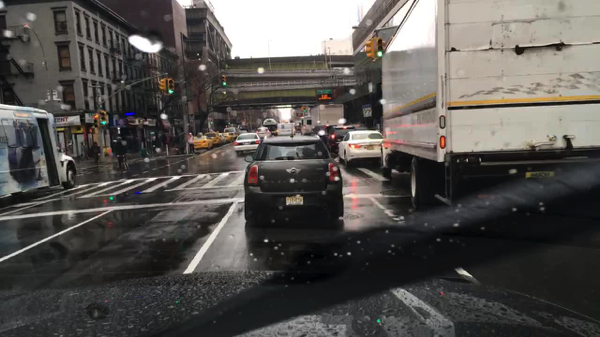bike: (114, 153, 134, 173)
bus: (0, 103, 79, 203)
car: (242, 124, 345, 220), (336, 130, 387, 169), (326, 126, 356, 151), (233, 133, 261, 156), (312, 123, 339, 141), (191, 132, 212, 150), (205, 132, 223, 146), (256, 127, 272, 138), (223, 128, 239, 136), (221, 132, 235, 141), (352, 124, 369, 131), (237, 125, 250, 134), (301, 127, 312, 135)
person: (90, 141, 101, 165), (177, 133, 186, 157), (80, 141, 89, 161), (151, 135, 160, 154), (171, 134, 177, 150), (163, 135, 169, 146)
rider: (110, 137, 130, 169)
traffic light: (362, 41, 374, 59), (374, 39, 383, 58), (167, 79, 176, 95), (99, 112, 107, 126), (158, 78, 165, 92), (220, 75, 228, 87), (93, 114, 98, 128), (381, 40, 387, 51), (301, 107, 306, 113), (88, 130, 94, 134)
traffic sign: (315, 90, 331, 94)
truck: (375, 1, 599, 211), (308, 103, 346, 131), (277, 121, 296, 137), (262, 117, 278, 136)
